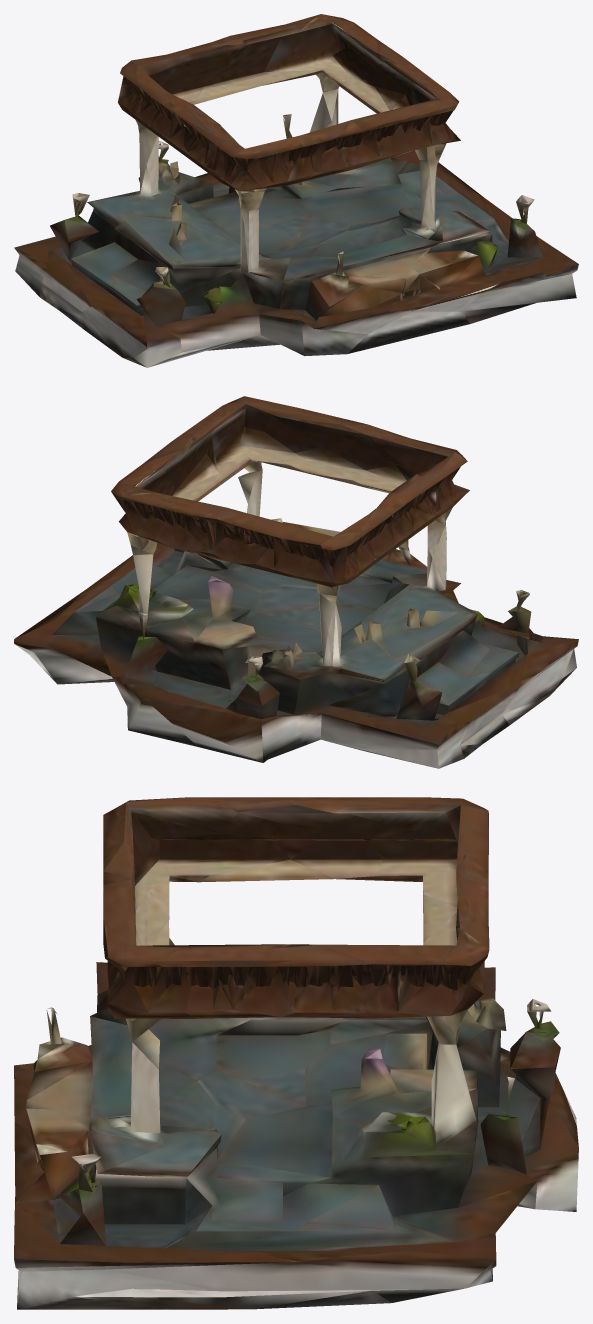
Rendered from taman_lobby_lod2.glb.
3 renders of one model, top to bottom at view 1: azimuth 30°, elevation 25°; view 2: azimuth 150°, elevation 25°; view 3: azimuth 270°, elevation 25°, orthographic. The views are drawn at different scales.
Visible parts, largest first — view 1: tripo_node_ebc49617-bec2-4e84-8ed3-4acc5b8441b3; view 2: tripo_node_ebc49617-bec2-4e84-8ed3-4acc5b8441b3; view 3: tripo_node_ebc49617-bec2-4e84-8ed3-4acc5b8441b3.
Part boxes in pixels (box(x1,y1,x2,y2)): tripo_node_ebc49617-bec2-4e84-8ed3-4acc5b8441b3: box(14, 14, 578, 367); tripo_node_ebc49617-bec2-4e84-8ed3-4acc5b8441b3: box(14, 396, 578, 768); tripo_node_ebc49617-bec2-4e84-8ed3-4acc5b8441b3: box(14, 797, 578, 1309).
Size of the model in its own units: 1 by 0.4635 by 0.8068.
1 material, 1 textured.
